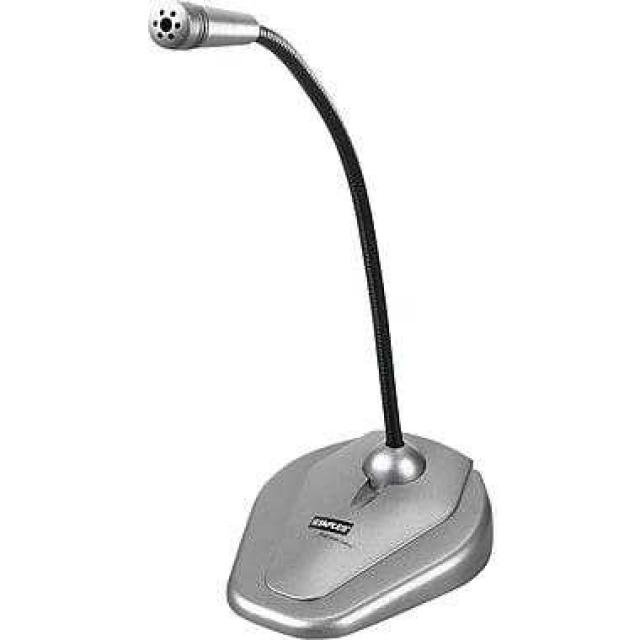microphone: (148, 0, 339, 86)
